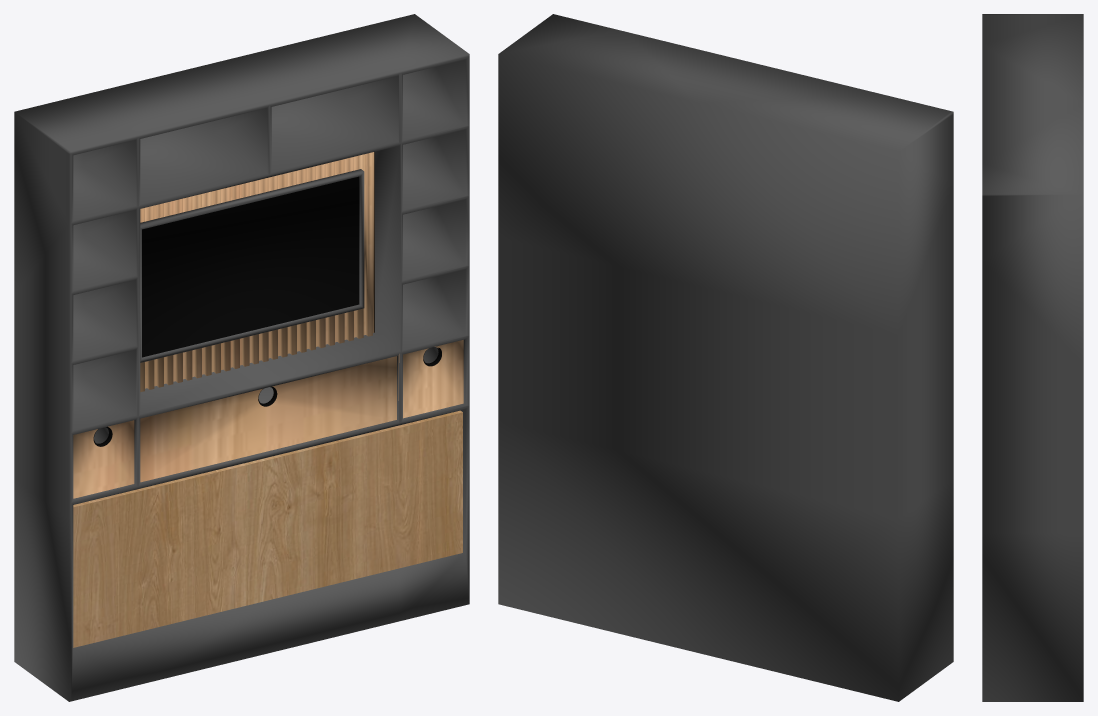
Rendered from bureau_closed.gltf.
3 renders of one model, left to right at view 1: azimuth 30°, elevation 25°; view 2: azimuth 150°, elevation 25°; view 3: azimuth 270°, elevation 25°, orthographic. The views are drawn at different scales.
Visible parts, largest first — view 1: bureau; view 2: bureau; view 3: bureau.
Part boxes in pixels (x1,y1,x2,y2): bureau: [14, 14, 469, 701]; bureau: [498, 14, 953, 701]; bureau: [982, 14, 1083, 701].
Size of the model in its own units: 1685 by 2211 by 400.
Materials: 4 (2 with a texture image).
